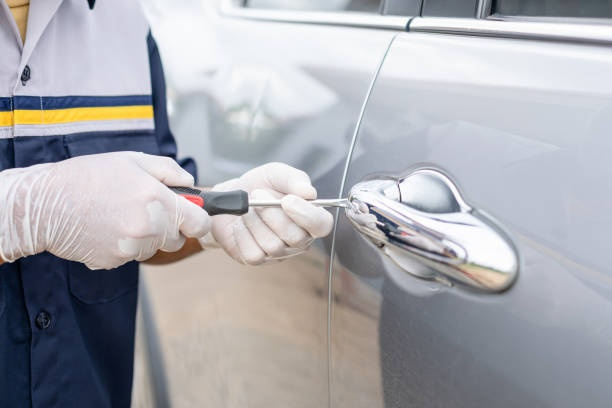screwdriver: (144, 168, 351, 225)
